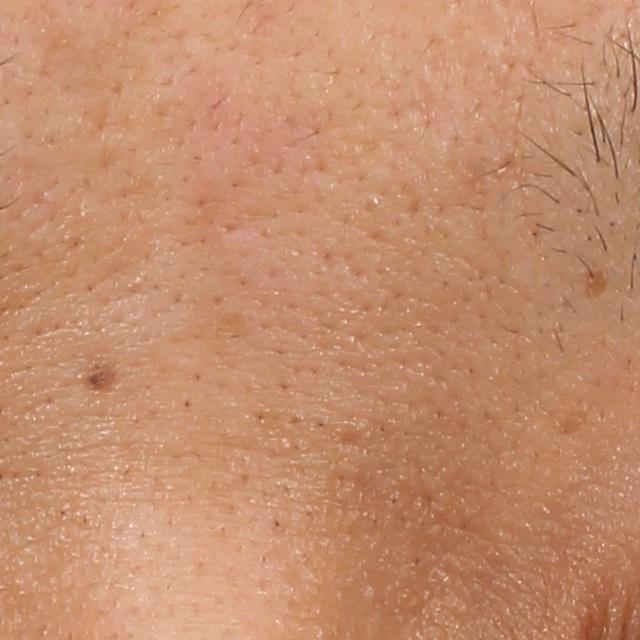nevus: (83, 360, 110, 393)
